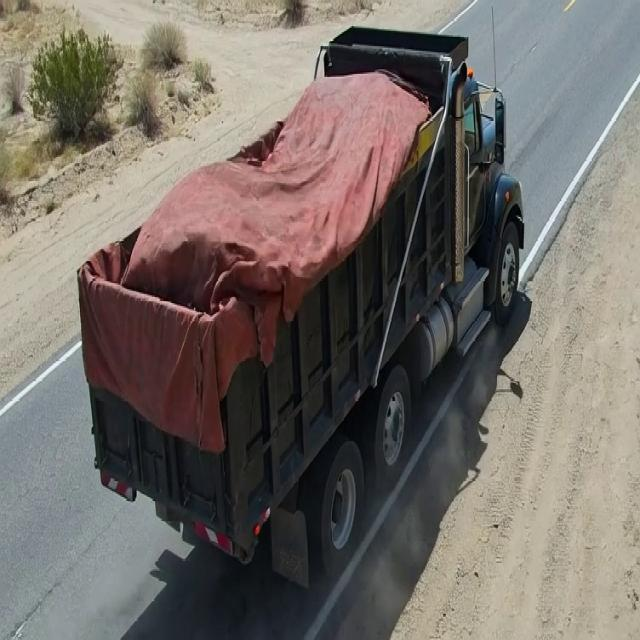Box: (77, 18, 486, 312)
Truck: (51, 19, 546, 584)
